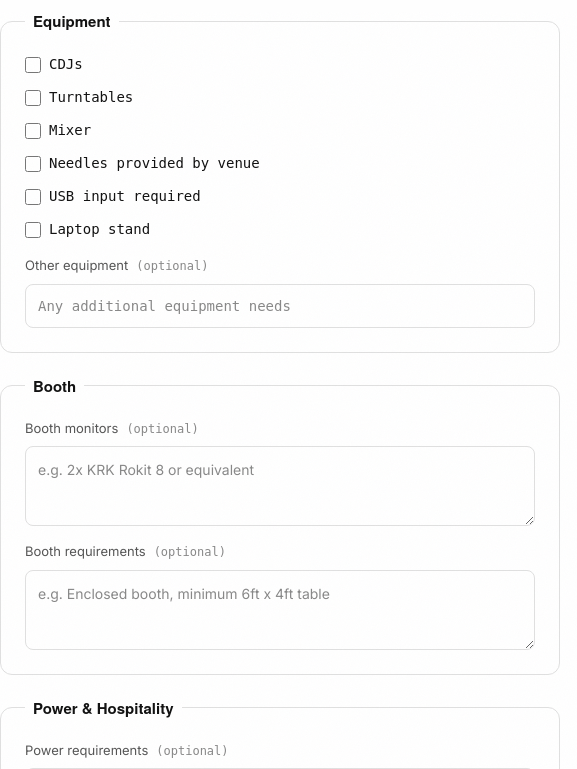
Test case: RiderForm › shows turntable model input when Turntables checkbox is checked
Expected: the field labelled "Turntable model" is not shown
Click the checkbox labelled "Turntables": [33, 98] box [25,90,41,106]
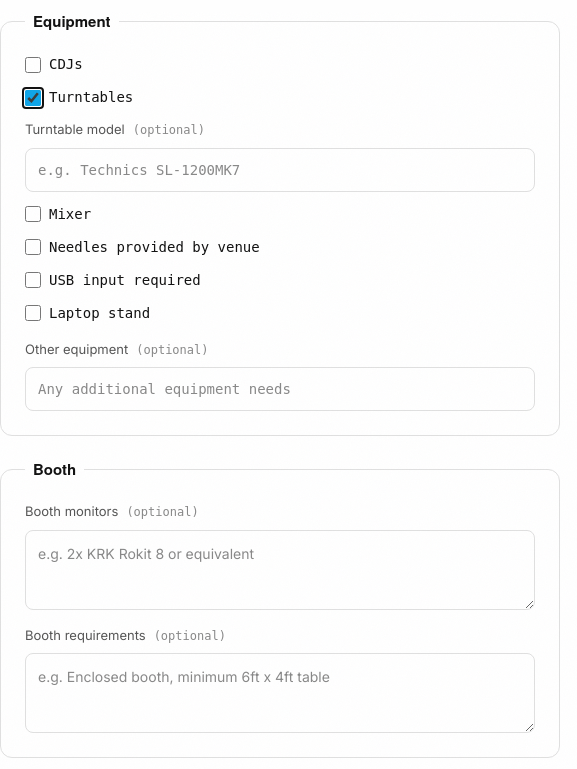
Expected: the field labelled "Turntable model (optional)" is shown, [25,148,535,192]
